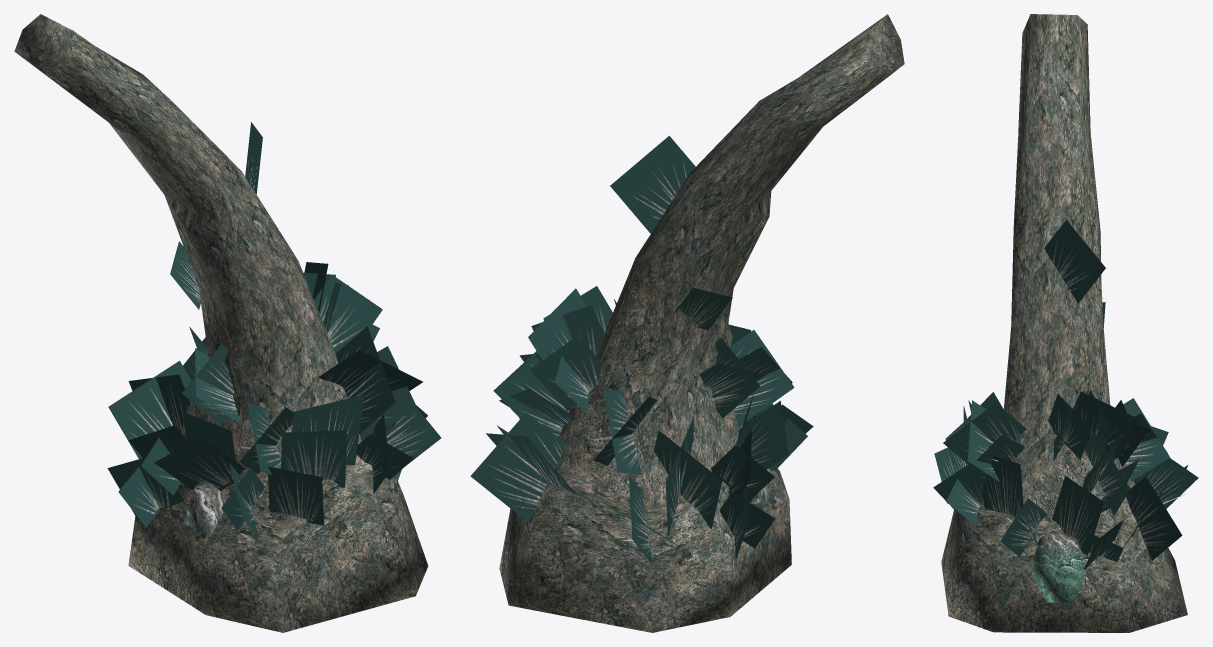
Rendered from rock_crystl_arch_half_med_l2.fbx.
3 renders of one model, left to right at view 1: azimuth 30°, elevation 25°; view 2: azimuth 150°, elevation 25°; view 3: azimuth 270°, elevation 25°, orthographic. The views are drawn at different scales.
Visible parts, largest first — view 1: mesh_node; view 2: mesh_node; view 3: mesh_node.
Boxes of the visible parts, x1,y1,x2,y2 form: mesh_node: [14, 14, 441, 632]; mesh_node: [470, 14, 904, 632]; mesh_node: [933, 14, 1198, 632].
Size of the model in its own units: 24.34 by 35.81 by 17.71.
